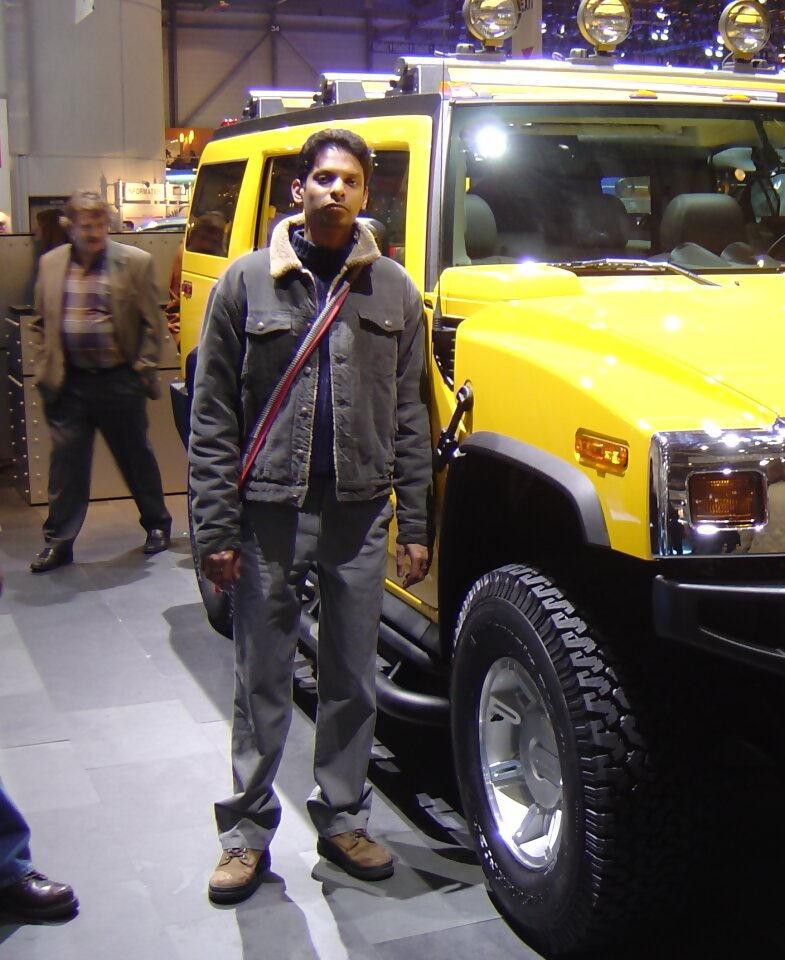person: (191, 120, 432, 907), (21, 190, 182, 573), (1, 786, 83, 923)
